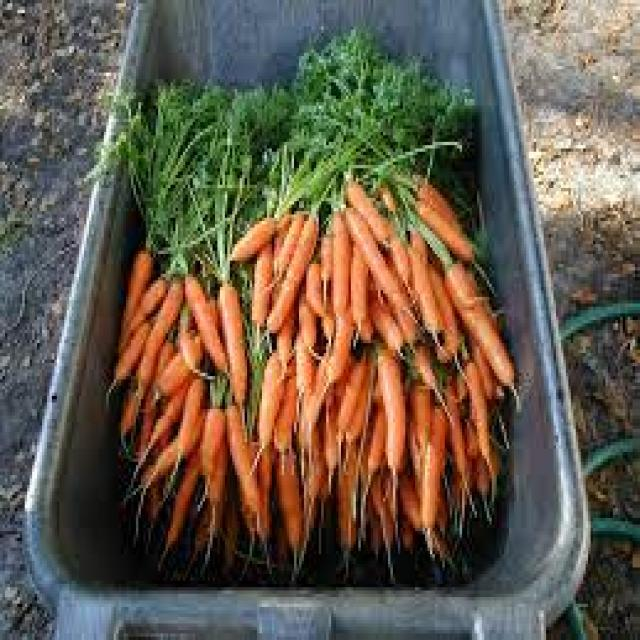Fresh_Carrot: (409, 193, 518, 403), (228, 119, 379, 270), (187, 111, 249, 415), (267, 120, 334, 328), (224, 384, 281, 574), (373, 308, 406, 552), (139, 342, 187, 492), (284, 321, 333, 463), (150, 89, 188, 252), (459, 349, 492, 508), (116, 247, 153, 372), (255, 334, 285, 457), (413, 370, 435, 516), (310, 253, 338, 348), (200, 378, 221, 485), (347, 241, 365, 340)
